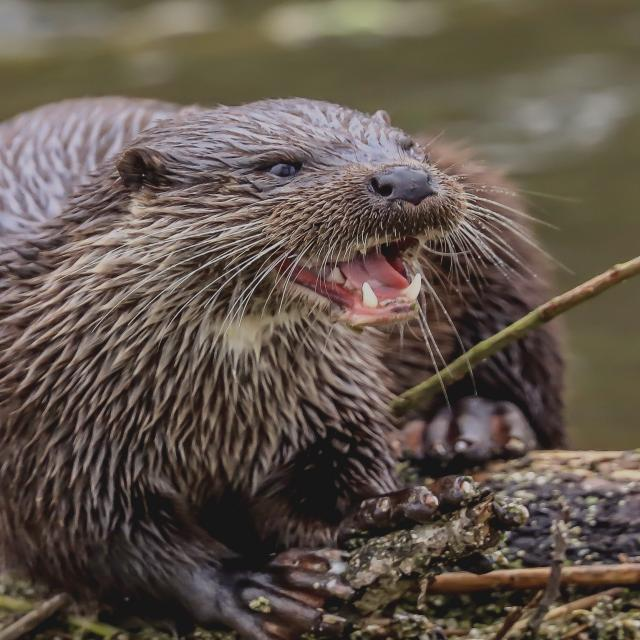otter: (1, 99, 464, 559)
